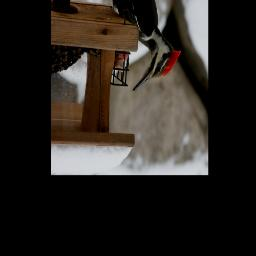Woodpecker: (65, 0, 188, 91)
